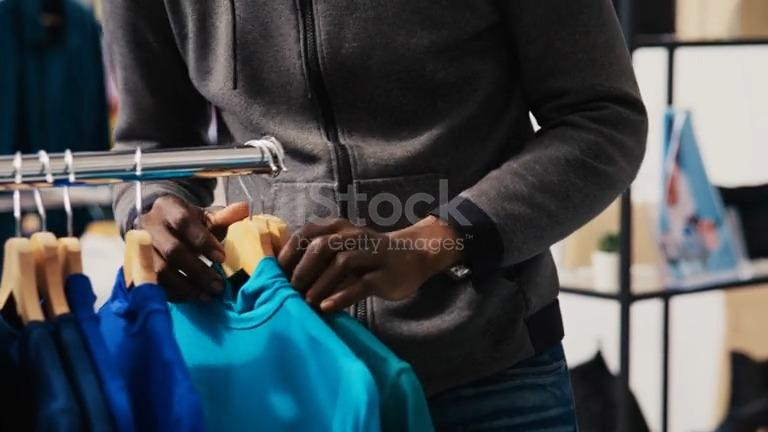Non shoplifting: (72, 0, 665, 432)
